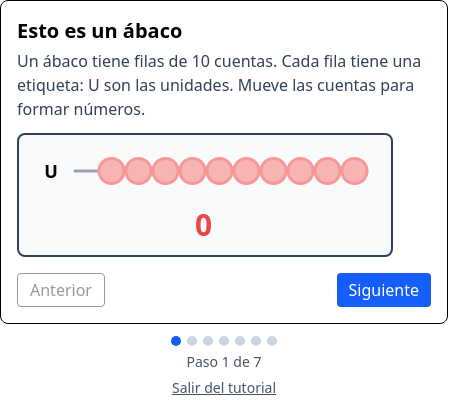
Scenario: AbacusTutorial › botón Siguiente avanza al paso 2
This screenshot has width=465, height=412.
Click the button "Siguiente" at (384, 290), box [336,273,431,307]
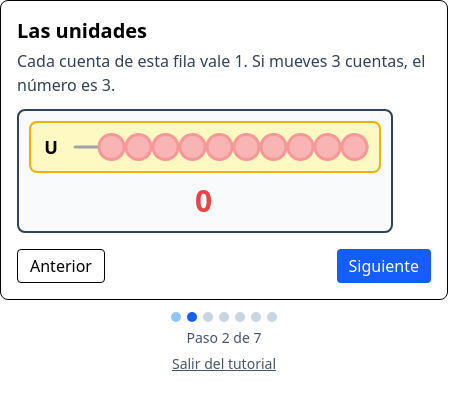
Expected: the heading with test id "tutorial-title" reads "Las unidades", [17,17,147,44]
